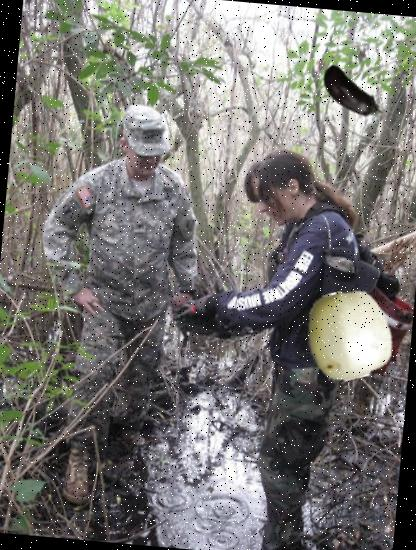Apple: (301, 287, 397, 383)
Eggplant: (311, 56, 390, 135)
